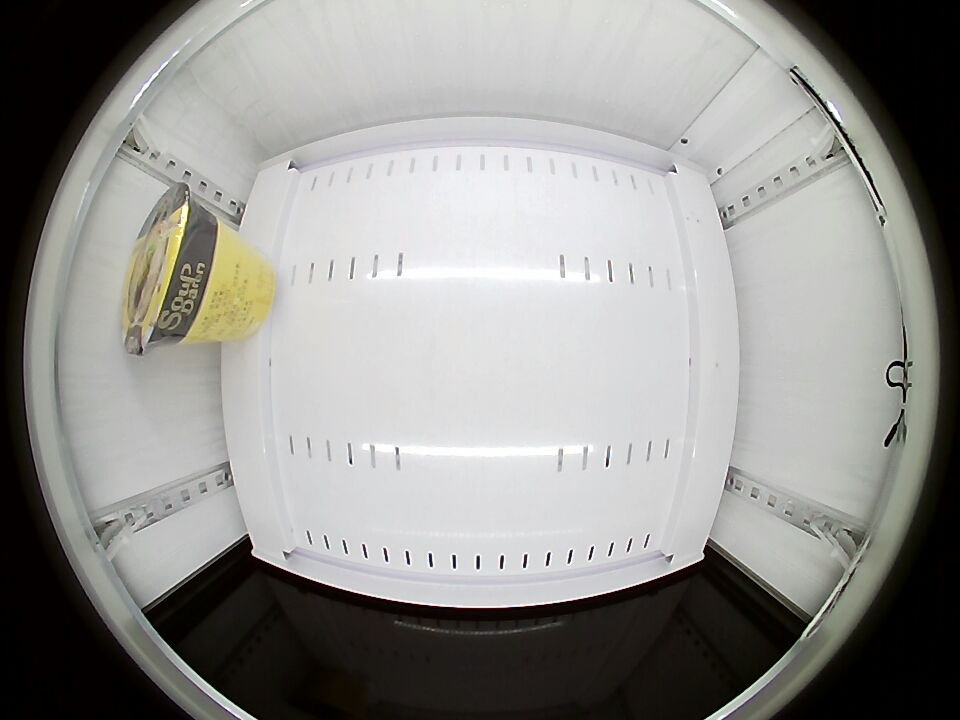tangdaren2: (121, 184, 219, 355)
